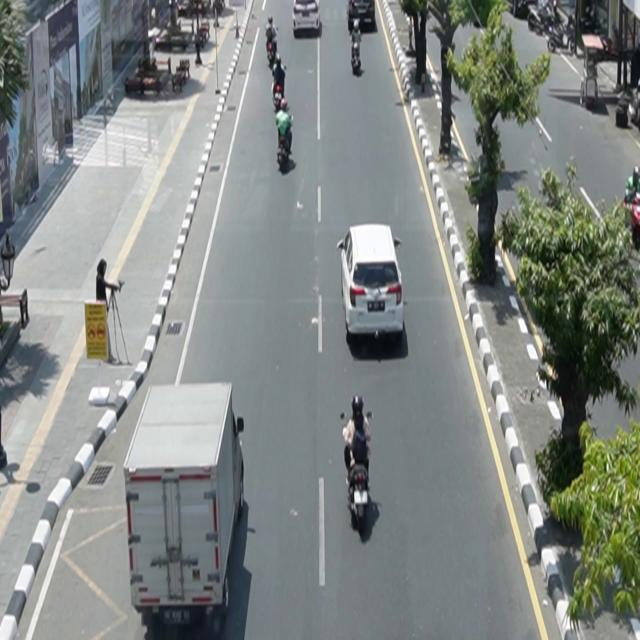car: (337, 224, 405, 343), (293, 1, 322, 38)
truck: (124, 382, 246, 638)
